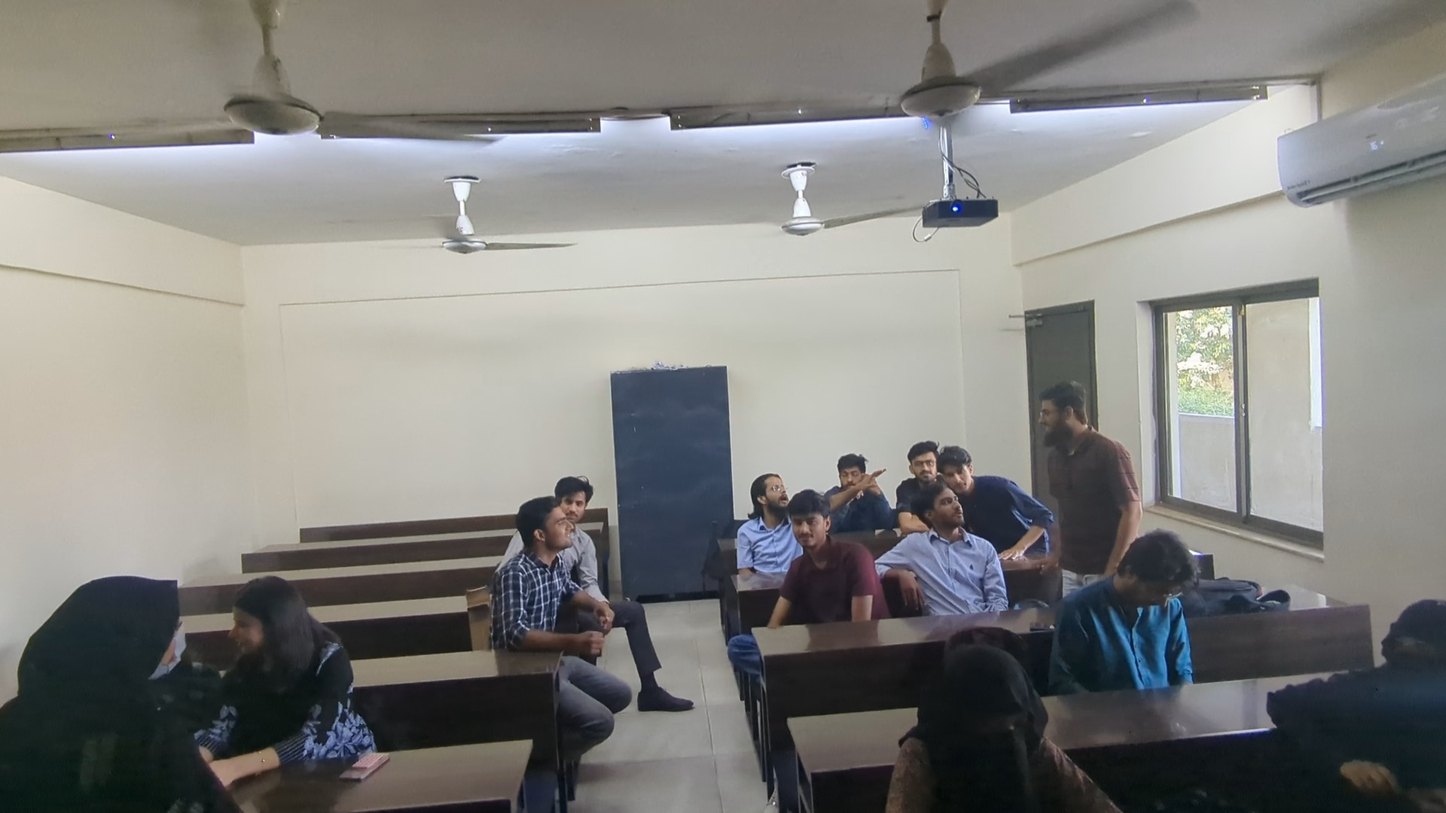look_forward: (767, 488, 896, 621), (897, 487, 1017, 613), (823, 453, 896, 532), (941, 442, 995, 496), (552, 476, 596, 519), (898, 441, 940, 485)
read: (888, 641, 1132, 813)
stand: (1039, 381, 1144, 564)
turn_head: (0, 575, 199, 813), (1266, 594, 1446, 813), (203, 573, 348, 779), (484, 496, 614, 654), (739, 458, 791, 575)
using_device: (1051, 524, 1196, 688)
